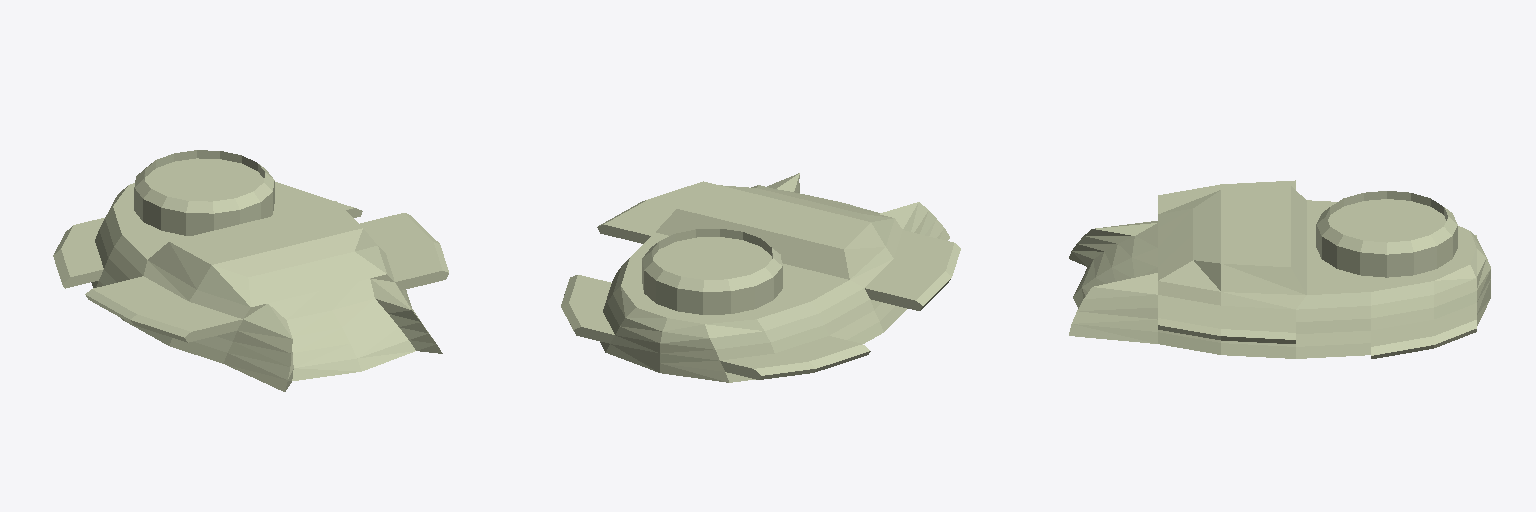
Rendered from gok_godsword.obj.
The picture shows the model from 3 angles: view 1: azimuth 30°, elevation 25°; view 2: azimuth 150°, elevation 25°; view 3: azimuth 270°, elevation 25°; orthographic projection.
Visible parts, largest first — view 1: Cylinder1, Cylinder2; view 2: Cylinder1, Cylinder2; view 3: Cylinder1, Cylinder2.
Boxes of the visible parts, x1=… form: Cylinder1: x1=53, y1=182, x2=448, y2=391; Cylinder2: x1=134, y1=150, x2=274, y2=235; Cylinder1: x1=561, y1=173, x2=960, y2=382; Cylinder2: x1=642, y1=229, x2=782, y2=314; Cylinder1: x1=1069, y1=180, x2=1490, y2=358; Cylinder2: x1=1316, y1=191, x2=1457, y2=277.
Bounding box in the file's own units: 4.51 × 1.07 × 5.07.